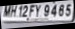character: (43, 4, 50, 17), (2, 5, 10, 16), (10, 5, 17, 17), (21, 5, 28, 17), (28, 4, 35, 16), (50, 4, 57, 16), (34, 4, 40, 17), (65, 3, 71, 16), (18, 4, 22, 17)
